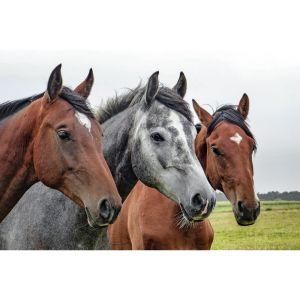horse: (4, 64, 124, 238), (127, 66, 217, 229), (219, 67, 263, 230)
